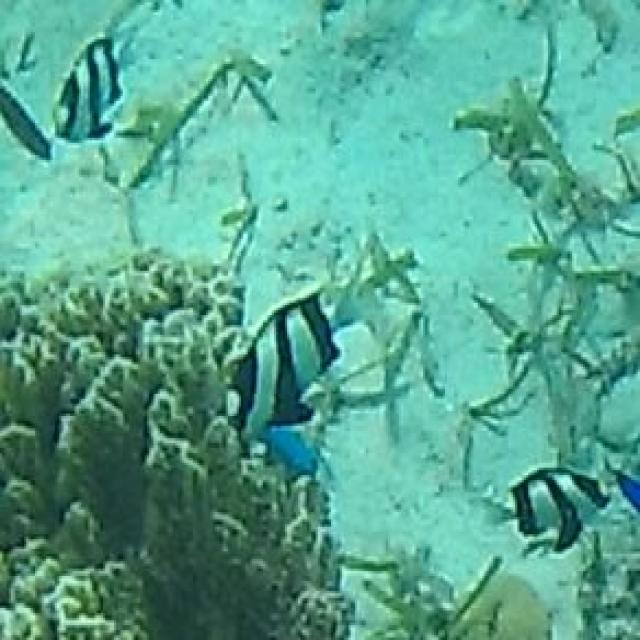ThreeStripedDamselfish: (222, 271, 374, 438)
